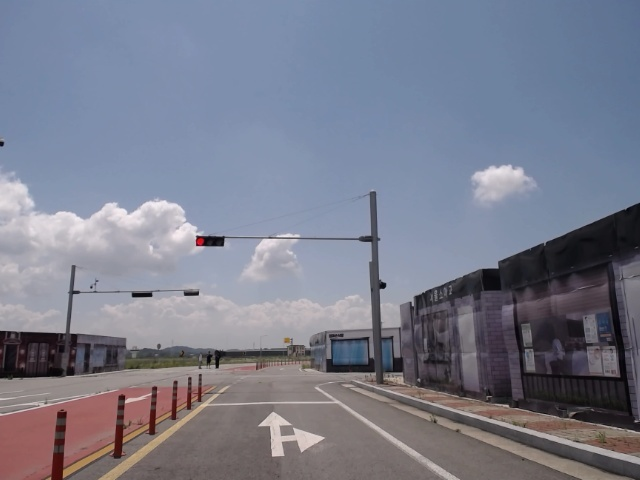red_3: (194, 236, 228, 248)
